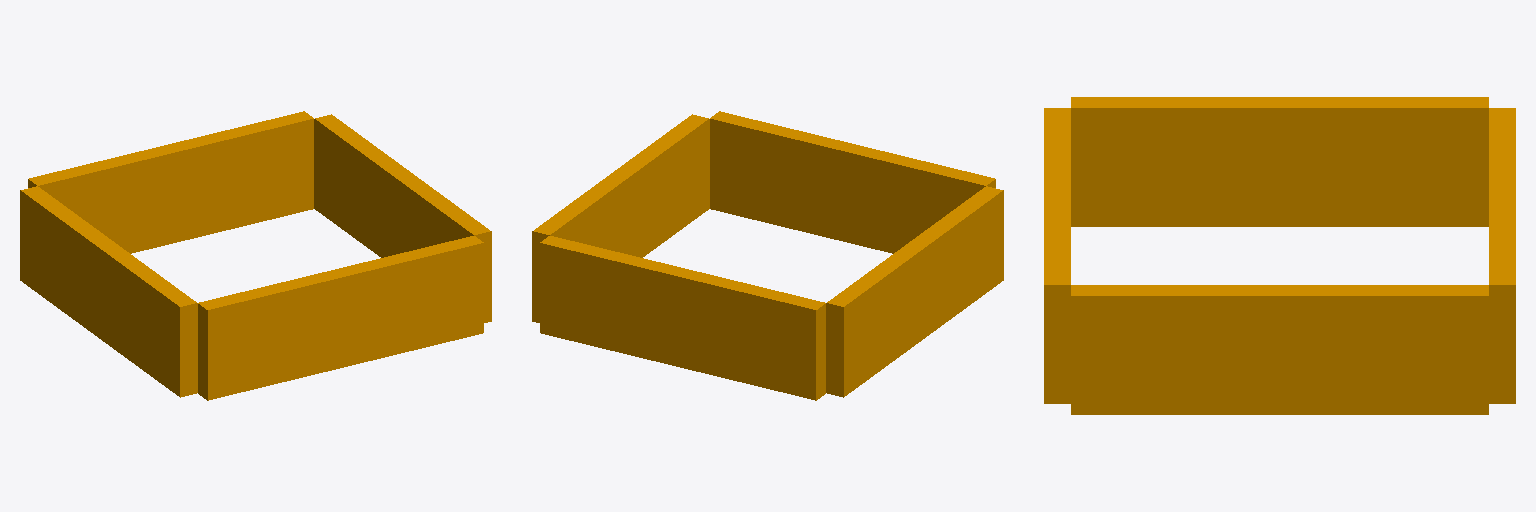
robot.urdf — board:
<robot name="board">
  <link name="link">
    <inertial>
      <origin xyz="0 0 0.15" />
      <mass value="100.0" />
      <!-- (1/12)*mass*(y^2 + z^2)  (1/12)*mass*(x^2 + z^2) (1/12)*mass*(x^2 + y^2) -->
      <inertia  ixx="10.0" ixy="0.0"  ixz="0.0"  iyy="10.0"  iyz="0.0"  izz="10.0" />
    </inertial>
    <visual>
      <origin xyz="-0.17 0 0.05"/>
      <geometry>
        <box size="0.02 0.32 0.1" />
      </geometry>
    </visual>
    <visual>
      <origin xyz="0.17 0 0.05"/>
      <geometry>
        <box size="0.02 0.32 0.1" />
      </geometry>
    </visual>
    <visual>
      <origin xyz="0 0.17 0.05"/>
      <geometry>
        <box size="0.32 0.02 0.1" />
      </geometry>
    </visual>
    <visual>
      <origin xyz="0 -0.17 0.05"/>
      <geometry>
        <box size="0.32 0.02 0.1" />
      </geometry>
    </visual>
    
    <collision>
      <origin xyz="-0.17 0 0.15"/>
      <geometry>
        <box size="0.02 0.32 0.3" />
      </geometry>
    </collision>
    <collision>
      <origin xyz="0.17 0 0.15"/>
      <geometry>
        <box size="0.02 0.32 0.3" />
      </geometry>
    </collision>
    <collision>
      <origin xyz="0 0.17 0.15"/>
      <geometry>
        <box size="0.32 0.02 0.3" />
      </geometry>
    </collision>
    <collision>
      <origin xyz="0 -0.17 0.15"/>
      <geometry>
        <box size="0.32 0.02 0.3" />
      </geometry>
    </collision>
  </link>
  <gazebo reference="link">
    <material>Gazebo/White</material>
    <!--mu1>1000</mu1>
    <mu2>1000</mu2>
    <maxVel>0.0</maxVel>
    <minDepth>0.0001</minDepth-->
  </gazebo>
  <gazebo>
    <static>0</static>
  </gazebo>
</robot>

--- Render facts (derived) ---
3 views of the same robot in one strip: view 1: azimuth 30°, elevation 25°; view 2: azimuth 150°, elevation 25°; view 3: azimuth 270°, elevation 25° (orthographic).
Model board with 1 links and 0 joints (none), rooted at link, posed all joints at 0.
Links seen in each view (by area): view 1: link; view 2: link; view 3: link.
Boxes of the visible links, left/top/right/bottom form: link: left=20, top=111, right=491, bottom=400; link: left=532, top=111, right=1003, bottom=400; link: left=1044, top=97, right=1515, bottom=414.
Size in the robot's own frame: 0.36 by 0.36 by 0.1 metres.
Geometry: primitives only (box / cylinder / sphere), no mesh files.